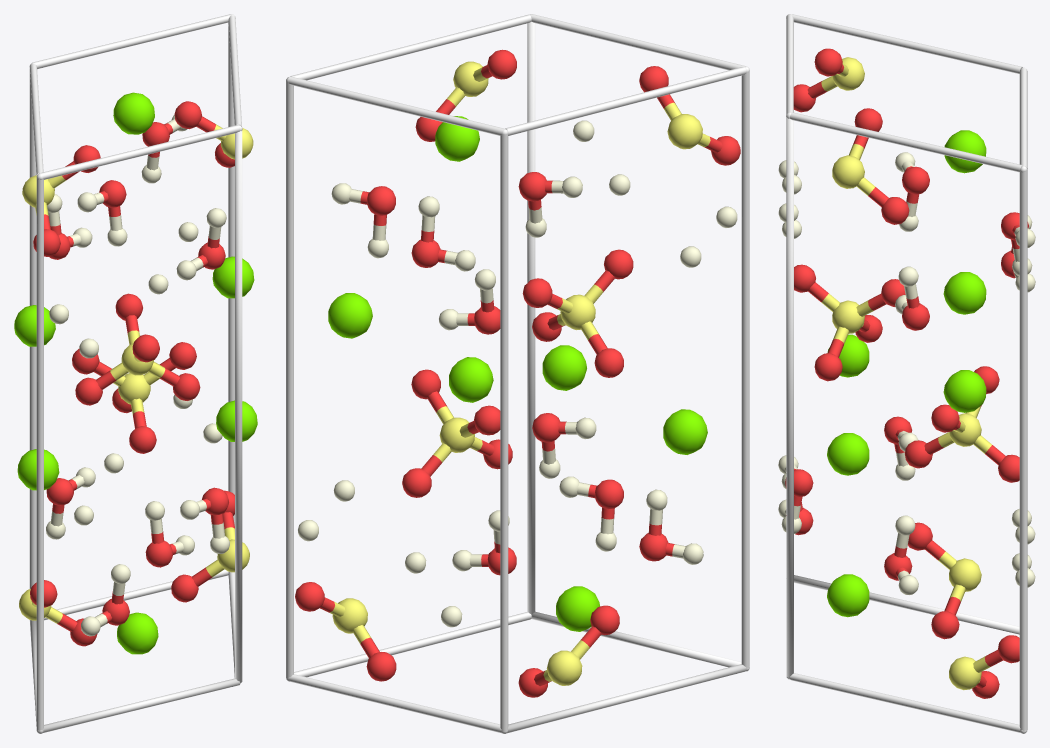
File: yeso.fbx
The picture shows the model from 3 angles, left to right: view 1: azimuth 30°, elevation 25°; view 2: azimuth 150°, elevation 25°; view 3: azimuth 270°, elevation 25°; orthographic projection. The views are drawn at different scales.
Visible parts, largest first — view 1: limite.024, O.003, D, Ca, S.002; view 2: limite.024, O.003, D, Ca, S.002; view 3: limite.024, O.003, Ca, S.002, D.
Part boxes in pixels (x1,y1,x2,y2): limite.024: (29,14,242,733); O.003: (30,101,234,646); D: (46,114,229,636); Ca: (14,92,257,654); S.002: (19,124,253,623); limite.024: (286,14,749,733); O.003: (295,49,740,697); D: (298,120,737,627); Ca: (328,116,707,631); S.002: (329,61,710,685); limite.024: (786,14,1027,733); O.003: (785,48,1028,698); Ca: (827,130,986,617); S.002: (821,57,991,690); D: (778,152,1035,595).
Size of the model in its own units: 17.7 by 30.22 by 12.42.
